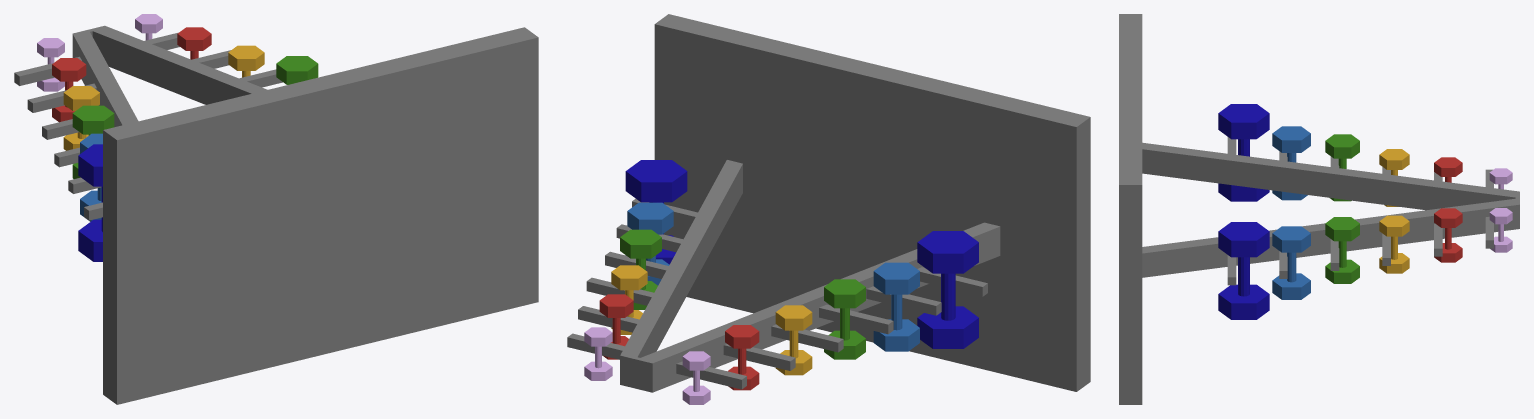
The picture shows the model from 3 angles, left to right: view 1: azimuth 30°, elevation 25°; view 2: azimuth 150°, elevation 25°; view 3: azimuth 270°, elevation 25°; orthographic projection. The views are drawn at different scales.
Parts seen in each view (by area): view 1: Circle.001; view 2: Circle.001; view 3: Circle.001.
Boxes of the visible parts, left/top/right/bottom form: Circle.001: left=14, top=14, right=538, bottom=404; Circle.001: left=567, top=14, right=1090, bottom=404; Circle.001: left=1119, top=14, right=1519, bottom=404.
Bounding box in the file's own units: 50 × 30 × 49.53.
